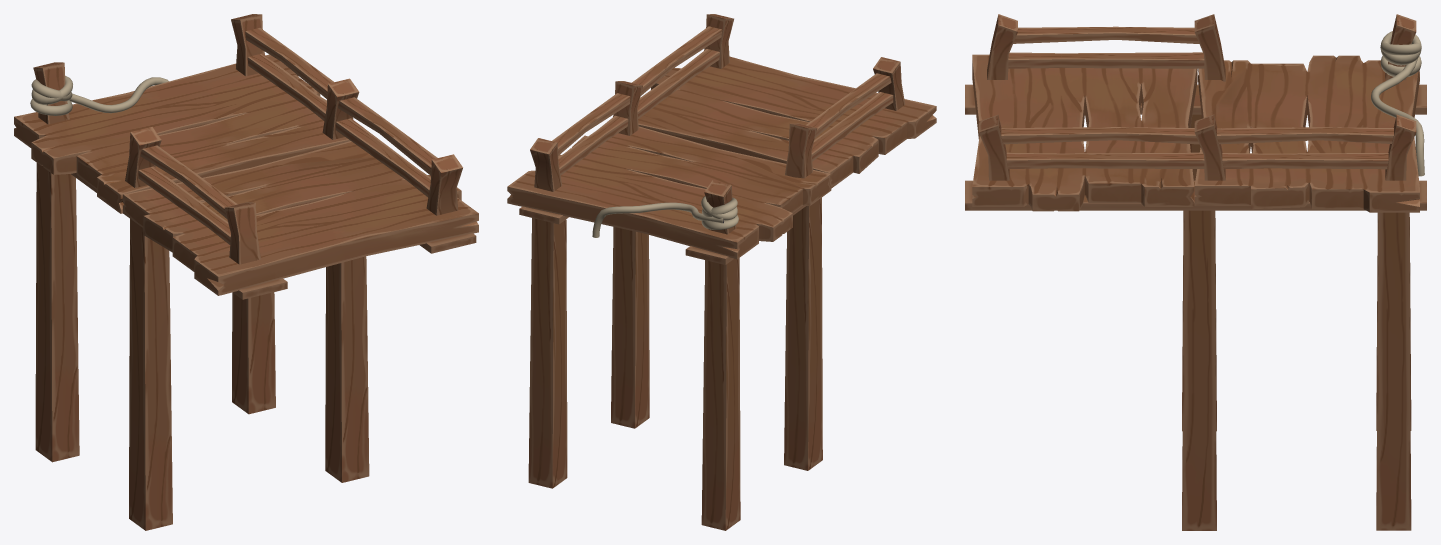
The model's file is F_Bridge.fbx.
3 renders of one model, left to right at view 1: azimuth 30°, elevation 25°; view 2: azimuth 150°, elevation 25°; view 3: azimuth 270°, elevation 25°, orthographic. The views are drawn at different scales.
Parts seen in each view (by area): view 1: Bridge001, Rope001; view 2: Bridge001, Rope001; view 3: Bridge001, Rope001.
Part boxes in pixels (x1,y1,x2,y2): Bridge001: (14,14,478,530); Rope001: (30,76,168,115); Bridge001: (507,14,936,530); Rope001: (592,196,738,237); Bridge001: (965,14,1426,530); Rope001: (1371,31,1424,176).
Size of the model in its own units: 216 by 292 by 303.
